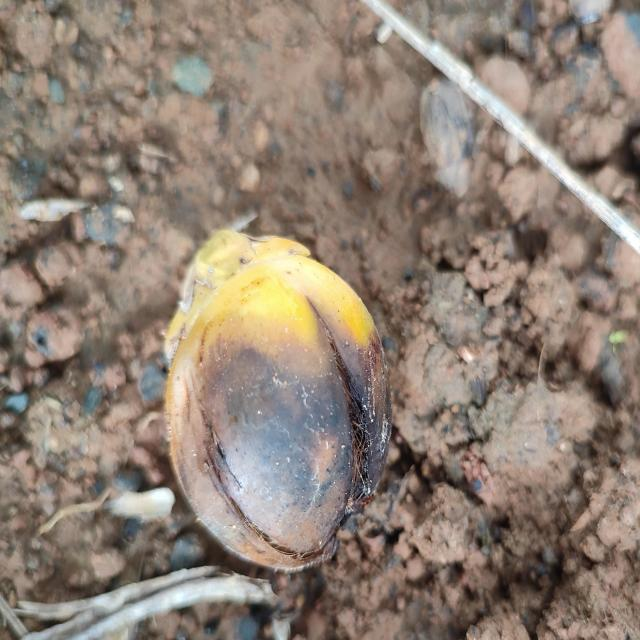damaged: (165, 229, 391, 572)
